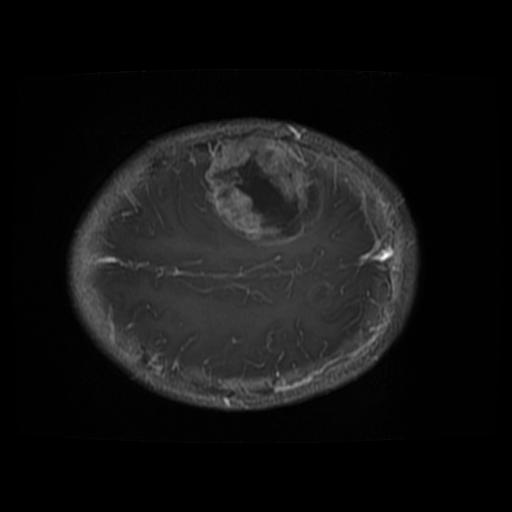glioma: (214, 140, 304, 244)
